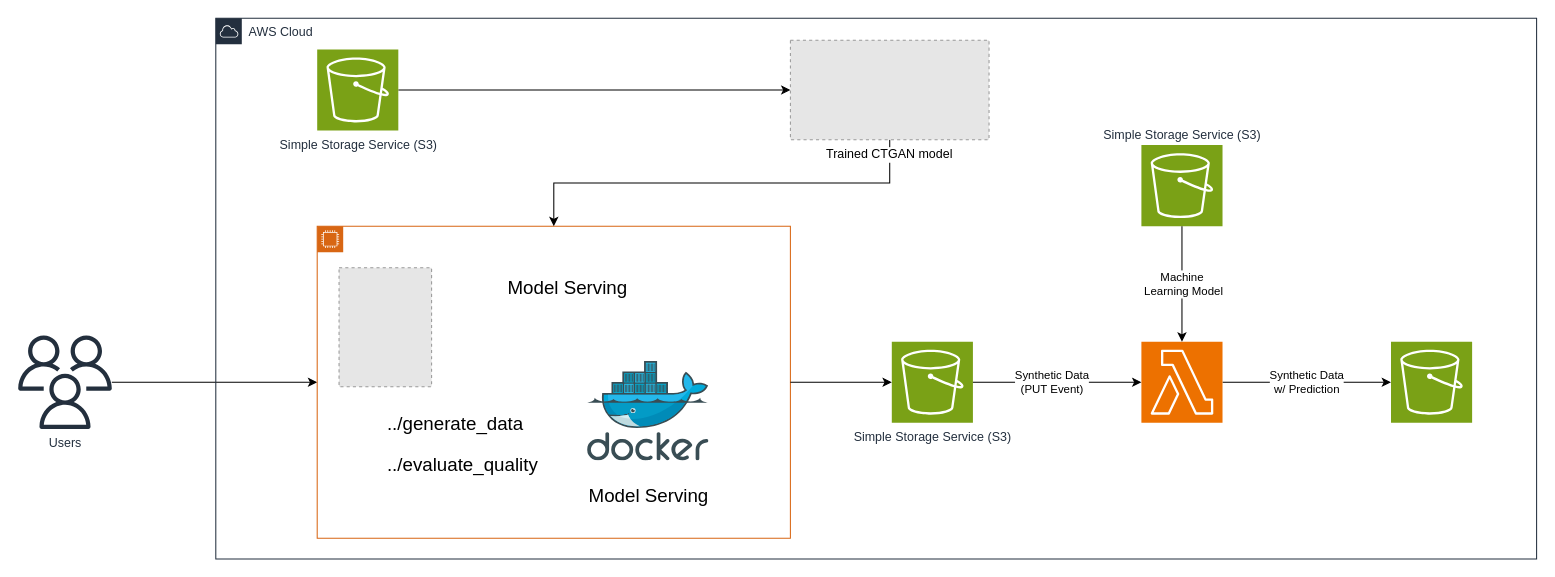
The diagram is 1555 pixels wide and 577 high, and some of its shapes have lost their labels. Grey dashed boxes stand in for pictures. The box of each missing label's shape, as (x1, y1, x2, y2) in pixels:
EC2 instance contents: (316, 225, 790, 538)
ML modeled stored in S3: (1390, 341, 1472, 423)
